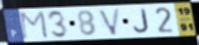2: (154, 6, 176, 34)
3: (46, 9, 70, 39)
8: (76, 9, 98, 37)
J: (132, 8, 150, 34)
M: (19, 10, 50, 41)
V: (97, 7, 122, 37)
